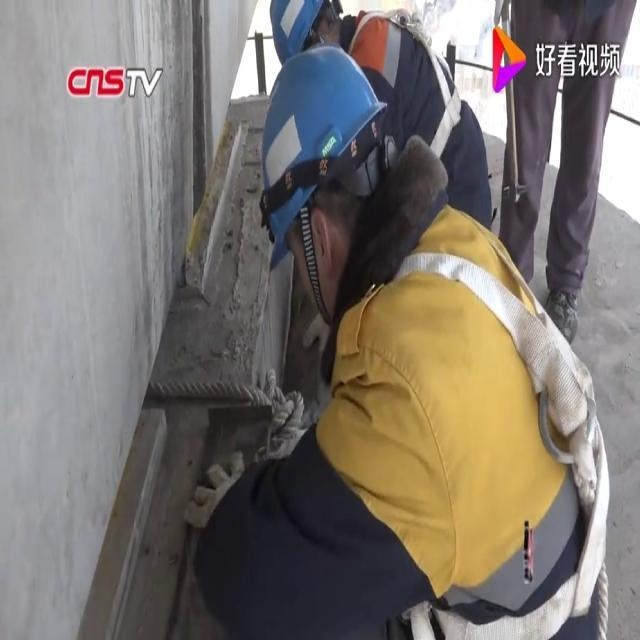Arnes_seguridad: (364, 203, 619, 639), (332, 0, 485, 163)
